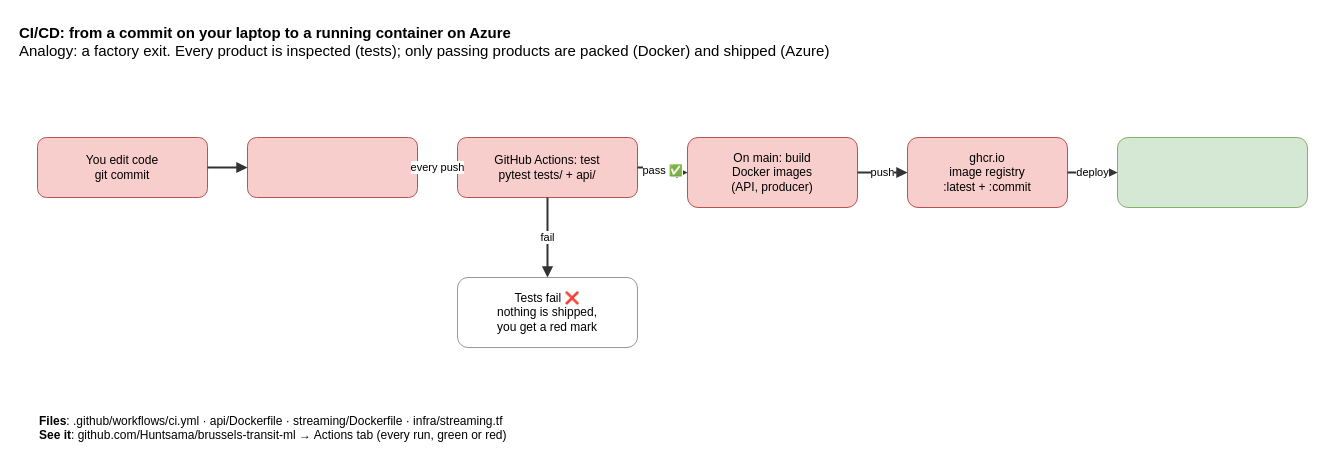
The diagram is 1334 pixels wide and 474 high, and some of its shapes have lost their labels. Here are the shapes that lost their labels. From the top down, the box of each, then its label:
(246, 136, 418, 198): git push → GitHub
(1116, 136, 1308, 208): Azure Container Apps pull the image, run it (defined in Terraform)
